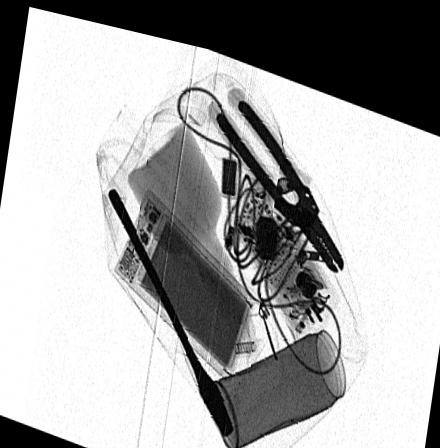Pliers: (215, 85, 345, 258)
Powerbank: (111, 181, 256, 367)
Wrench: (106, 180, 234, 428)
